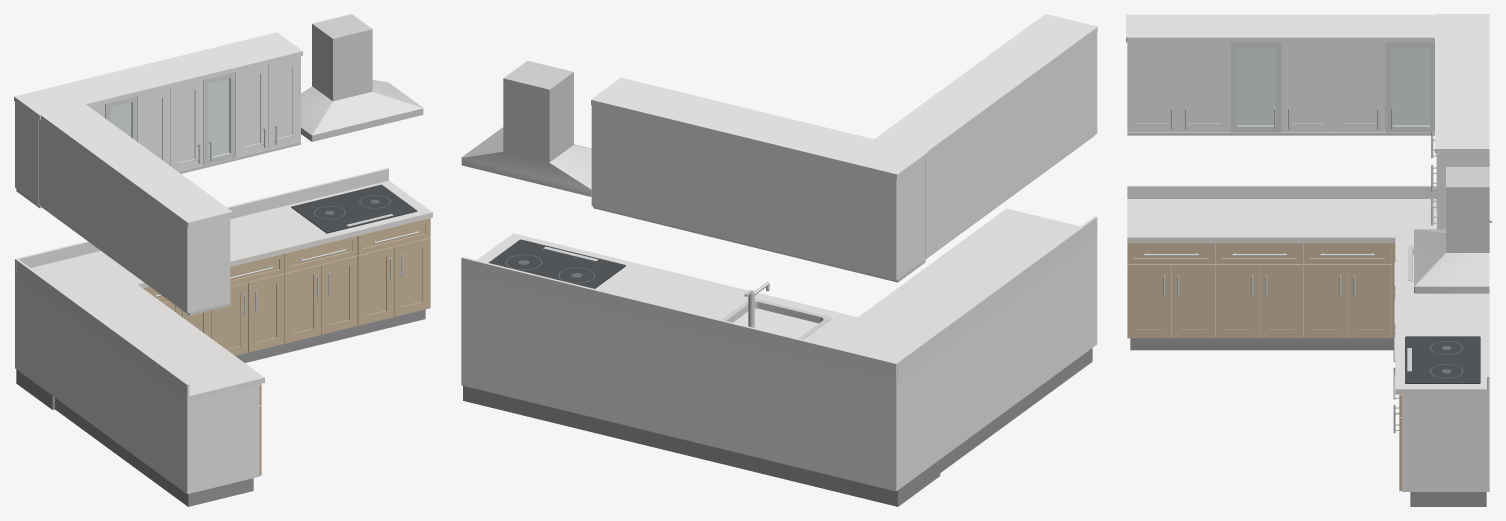
The picture shows the model from 3 angles, left to right: view 1: azimuth 30°, elevation 25°; view 2: azimuth 150°, elevation 25°; view 3: azimuth 270°, elevation 25°; orthographic projection. The views are drawn at different scales.
Visible parts, largest first — view 1: Tủ bếp chữ L Dài cạnh chính=3000; Dài cạnh phụ=2400; Sâu tủ ; view 2: Tủ bếp chữ L Dài cạnh chính=3000; Dài cạnh phụ=2400; Sâu tủ ; view 3: Tủ bếp chữ L Dài cạnh chính=3000; Dài cạnh phụ=2400; Sâu tủ .
Part boxes in pixels (x1,y1,x2,y2): Tủ bếp chữ L Dài cạnh chính=3000; Dài cạnh phụ=2400; Sâu tủ : (14,14,432,506); Tủ bếp chữ L Dài cạnh chính=3000; Dài cạnh phụ=2400; Sâu tủ : (461,14,1097,506); Tủ bếp chữ L Dài cạnh chính=3000; Dài cạnh phụ=2400; Sâu tủ : (1126,14,1491,506).
Size of the model in its own units: 3.01 by 2.2 by 2.42.
